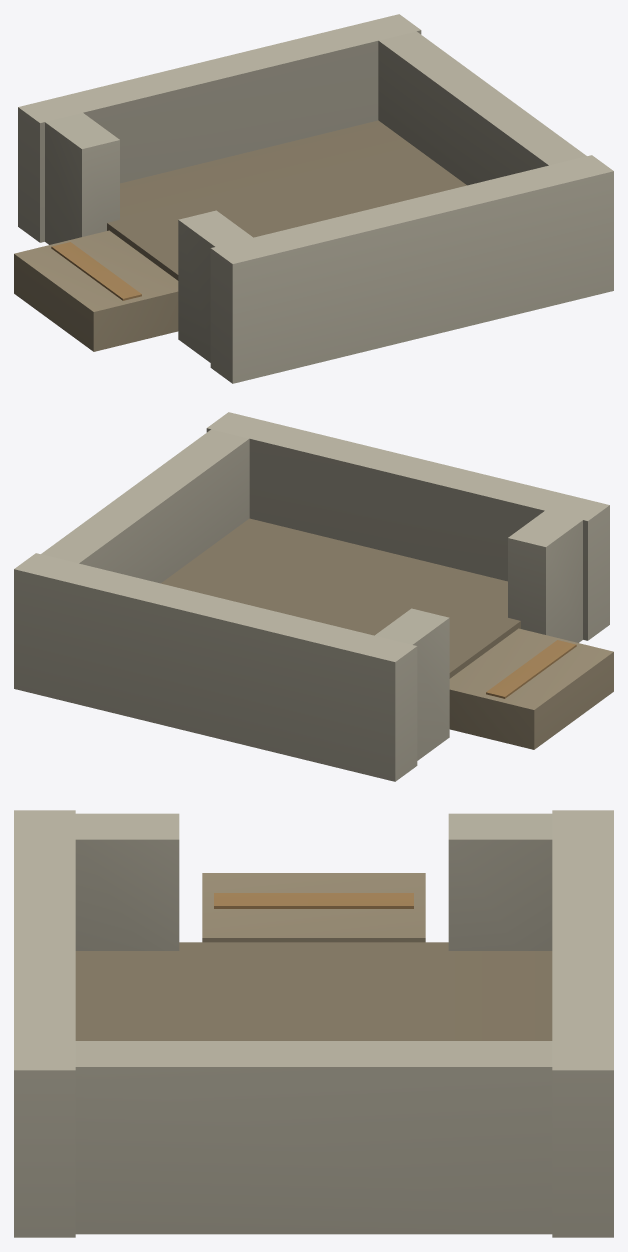
Rendered from water_basin.glb.
3 views of the same model, one above another, from view 1: azimuth 30°, elevation 25°; view 2: azimuth 150°, elevation 25°; view 3: azimuth 270°, elevation 25° (orthographic). The views are drawn at different scales.
Visible parts, largest first — view 1: water_basin; view 2: water_basin; view 3: water_basin.
Boxes of the visible parts, x1,y1,x2,y2 form: water_basin: [14, 14, 613, 383]; water_basin: [14, 412, 613, 781]; water_basin: [14, 810, 613, 1237].
Bounding box in the file's own units: 1.9 × 0.48 × 1.56.
